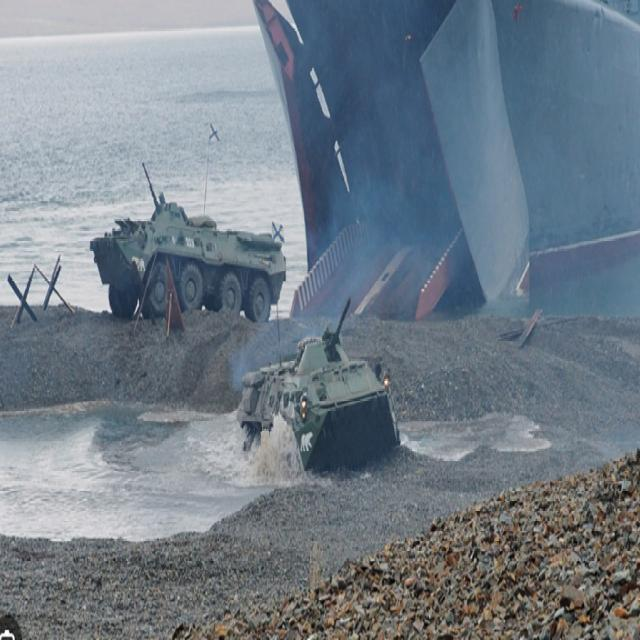APC-IFV: (88, 160, 290, 329), (238, 294, 402, 494)
